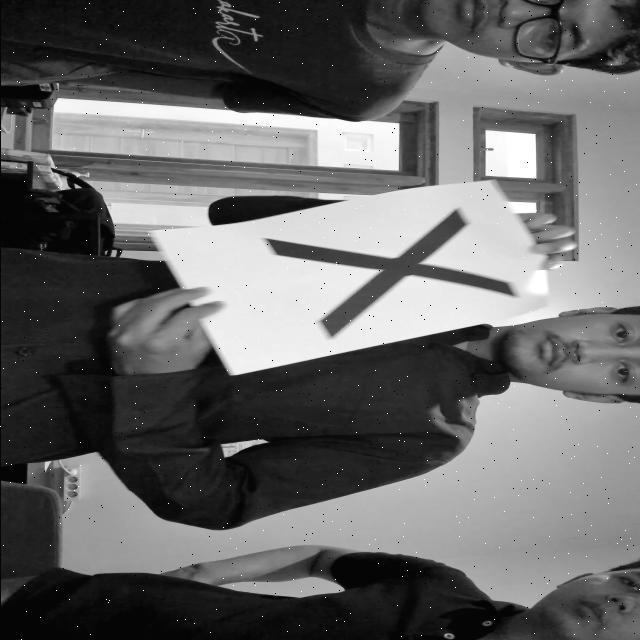x: (245, 198, 526, 356)
